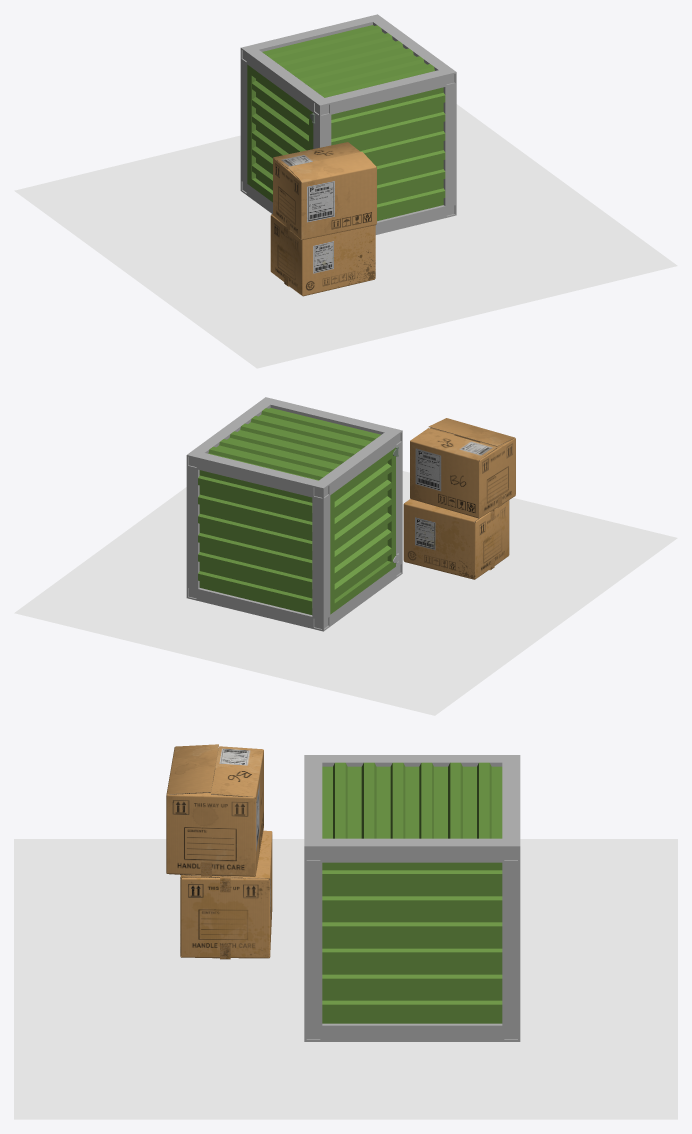
3 renders of one model, top to bottom at view 1: azimuth 30°, elevation 25°; view 2: azimuth 150°, elevation 25°; view 3: azimuth 270°, elevation 25°, orthographic. The views are drawn at different scales.
Visible parts, largest first — view 1: Plane, Cube, Cube.002, Object_9, Cube.001, Object_10, Cube.007, Cube.006; view 2: Plane, Cube, Cube.003, Object_9, Cube.001, Object_10, Cube.007, Cube.006; view 3: Plane, Cube.004, Cube, Cube.001, Object_9, Object_10.
Part boxes in pixels (left/top/right/bottom): Plane: left=14, top=104, right=677, bottom=368; Cube: left=240, top=14, right=456, bottom=234; Cube.002: left=331, top=87, right=445, bottom=221; Object_9: left=273, top=142, right=376, bottom=239; Cube.001: left=262, top=25, right=435, bottom=97; Object_10: left=270, top=214, right=375, bottom=296; Cube.007: left=252, top=79, right=308, bottom=190; Cube.006: left=247, top=64, right=313, bottom=202; Plane: left=14, top=471, right=677, bottom=715; Cube: left=186, top=397, right=402, bottom=631; Cube.003: left=198, top=470, right=312, bottom=614; Object_9: left=410, top=418, right=515, bottom=518; Cube.001: left=208, top=407, right=380, bottom=480; Object_10: left=403, top=499, right=509, bottom=579; Cube.007: left=334, top=461, right=391, bottom=598; Cube.006: left=330, top=447, right=395, bottom=614; Plane: left=14, top=839, right=677, bottom=1119; Cube.004: left=322, top=862, right=502, bottom=1023; Cube: left=304, top=755, right=520, bottom=1041; Cube.001: left=322, top=762, right=502, bottom=838; Object_9: left=166, top=744, right=263, bottom=876; Object_10: left=180, top=830, right=272, bottom=959.
Size of the model in its own units: 3.08 by 1.01 by 3.08.
14 materials, 3 textured.
